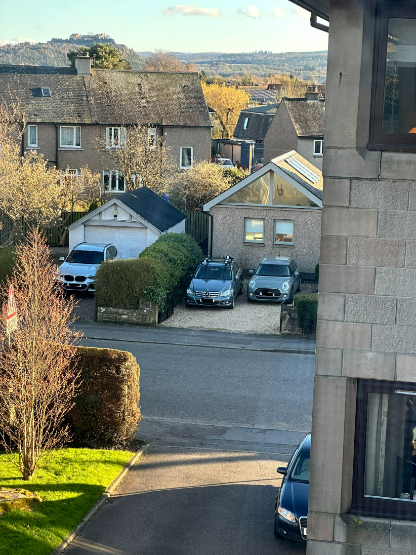car: (268, 419, 312, 549), (175, 252, 251, 311), (55, 232, 114, 291), (248, 252, 311, 307)
tree: (0, 221, 82, 475)
